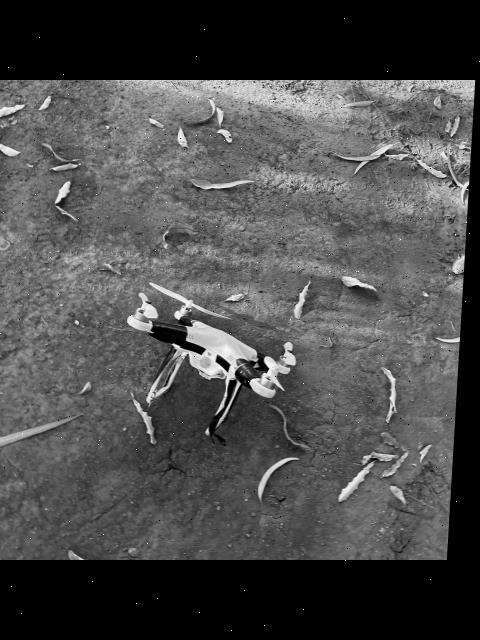drone: (94, 204, 370, 488)
